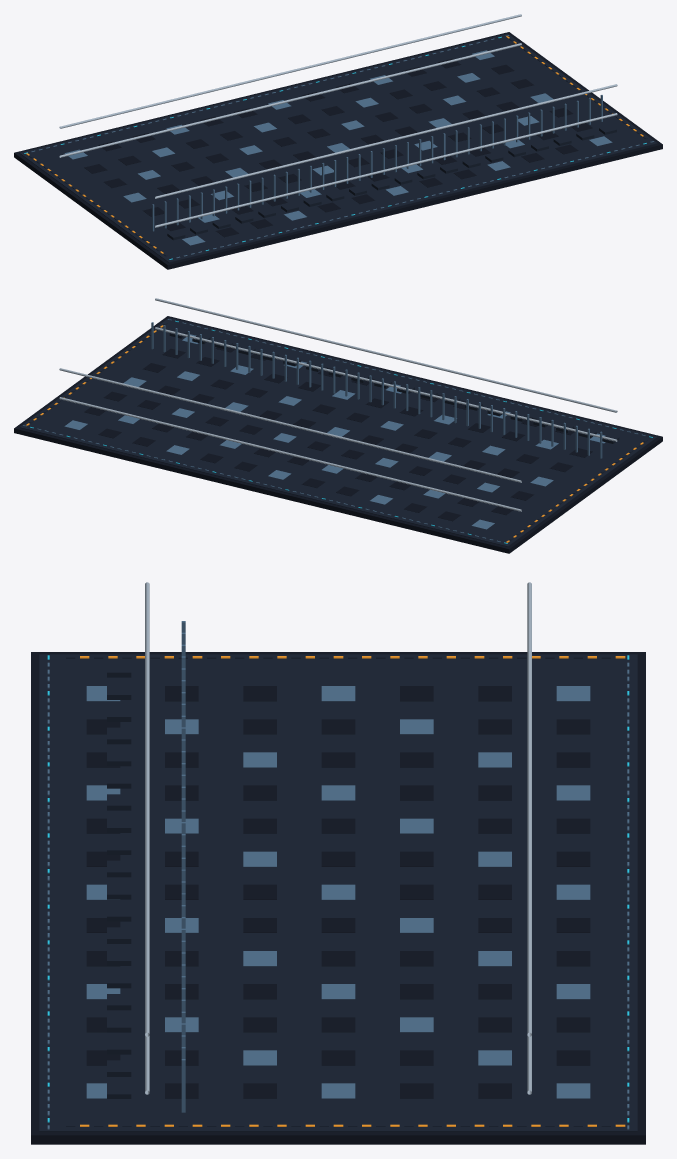
The model's file is 00_L85_OrbitalDockingArenaBase.fbx.
3 views of the same model, one above another, from view 1: azimuth 30°, elevation 25°; view 2: azimuth 150°, elevation 25°; view 3: azimuth 270°, elevation 25° (orthographic). The views are drawn at different scales.
Visible parts, largest first — view 1: L85_OrbitalDockingArenaBase; view 2: L85_OrbitalDockingArenaBase; view 3: L85_OrbitalDockingArenaBase.
Boxes of the visible parts, <box> form: L85_OrbitalDockingArenaBase: <box>14,14,662,269</box>; L85_OrbitalDockingArenaBase: <box>14,298,662,553</box>; L85_OrbitalDockingArenaBase: <box>31,582,645,1144</box>.
Bounding box in the file's own units: 2920 × 269 × 1570.
